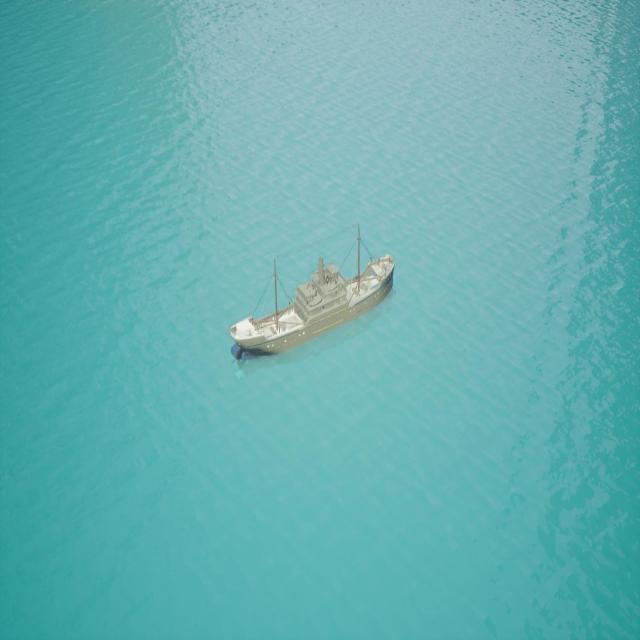fishing ship: (230, 235, 397, 361)
